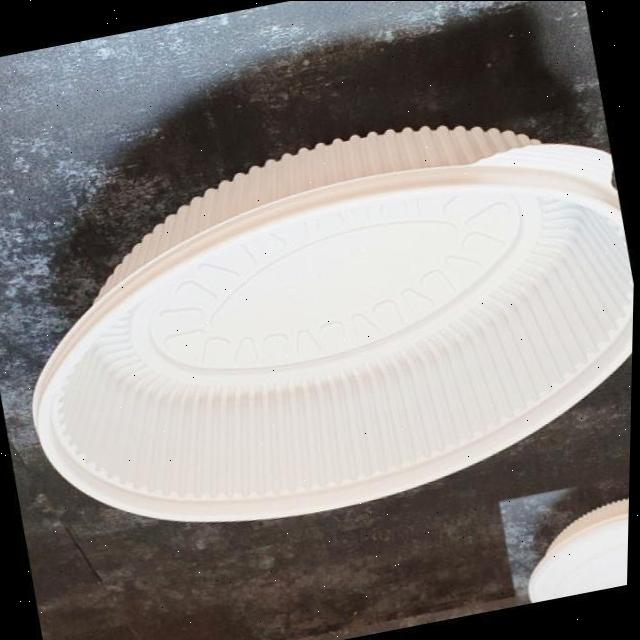disposable: (0, 114, 638, 534)
